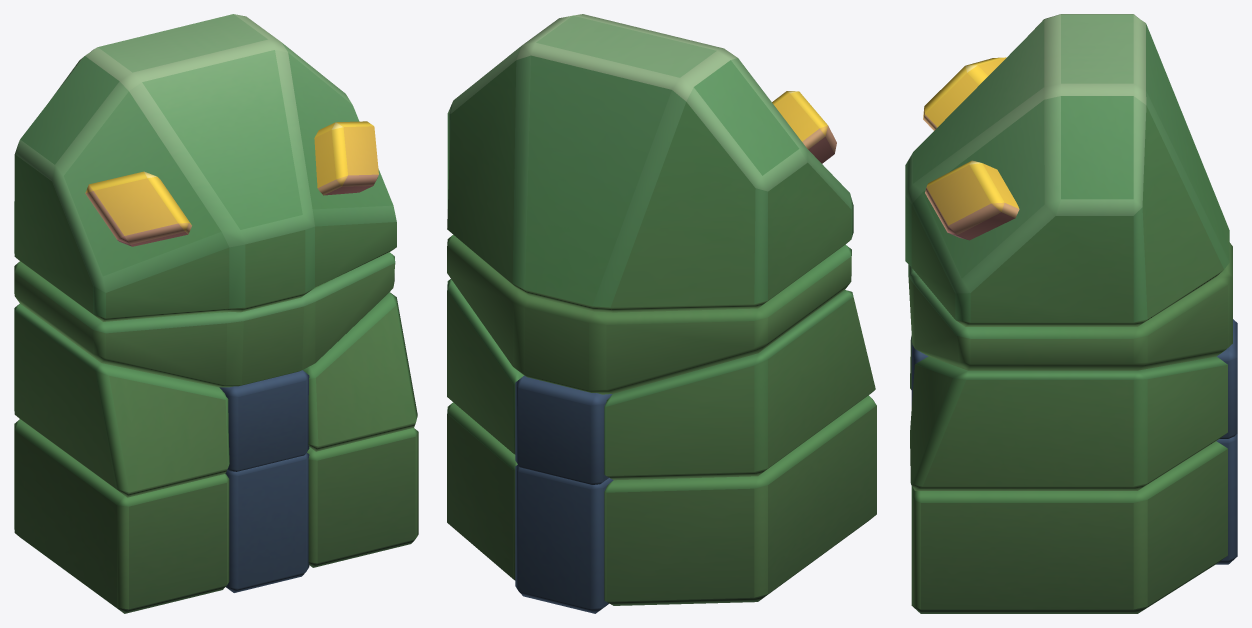
File: door_blocker_snake.fbx
The picture shows the model from 3 angles, left to right: view 1: azimuth 30°, elevation 25°; view 2: azimuth 150°, elevation 25°; view 3: azimuth 270°, elevation 25°; orthographic projection. The views are drawn at different scales.
Visible parts, largest first — view 1: door_blocker_snake; view 2: door_blocker_snake; view 3: door_blocker_snake.
Part boxes in pixels (left/top/right/bottom): door_blocker_snake: left=14, top=14, right=418, bottom=613; door_blocker_snake: left=447, top=14, right=876, bottom=613; door_blocker_snake: left=905, top=14, right=1237, bottom=613.
Bounding box in the file's own units: 200 × 304 × 184.
